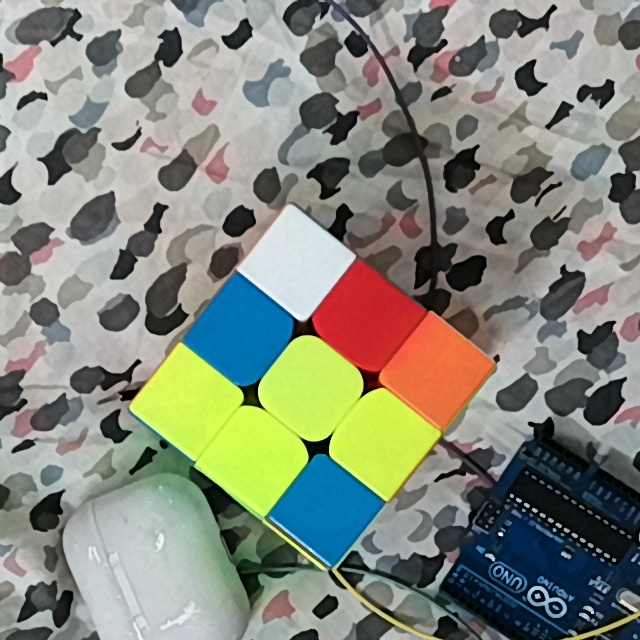tile: (335, 286, 397, 349), (209, 304, 273, 361), (295, 482, 356, 537), (352, 411, 409, 469), (408, 343, 467, 399), (223, 431, 283, 485), (283, 362, 340, 418), (268, 235, 324, 287), (159, 375, 213, 428)
